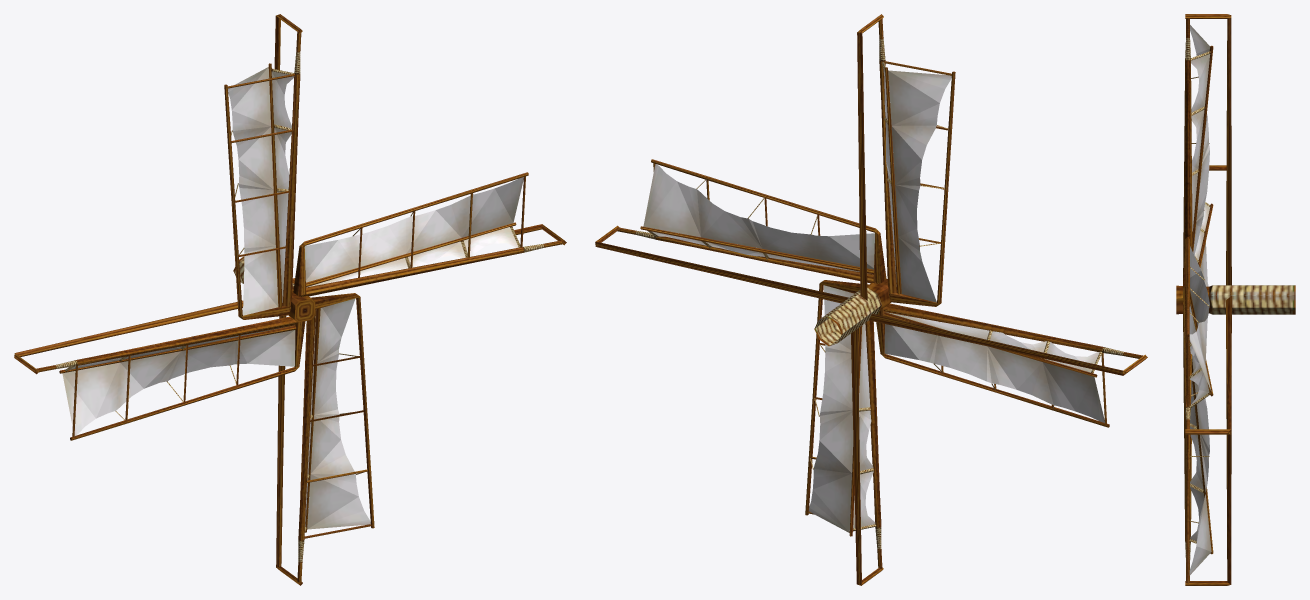
File: bigwindmill_bake.dae
The picture shows the model from 3 angles, left to right: view 1: azimuth 30°, elevation 25°; view 2: azimuth 150°, elevation 25°; view 3: azimuth 270°, elevation 25°; orthographic projection. The views are drawn at different scales.
Visible parts, largest first — view 1: m0; view 2: m0; view 3: m0.
Part boxes in pixels (x1,y1,x2,y2): m0: (14,14,566,585); m0: (595,14,1147,585); m0: (1176,14,1295,585).
Bounding box in the file's own units: 4772 × 4772 × 900.
2 materials, 2 textured.
